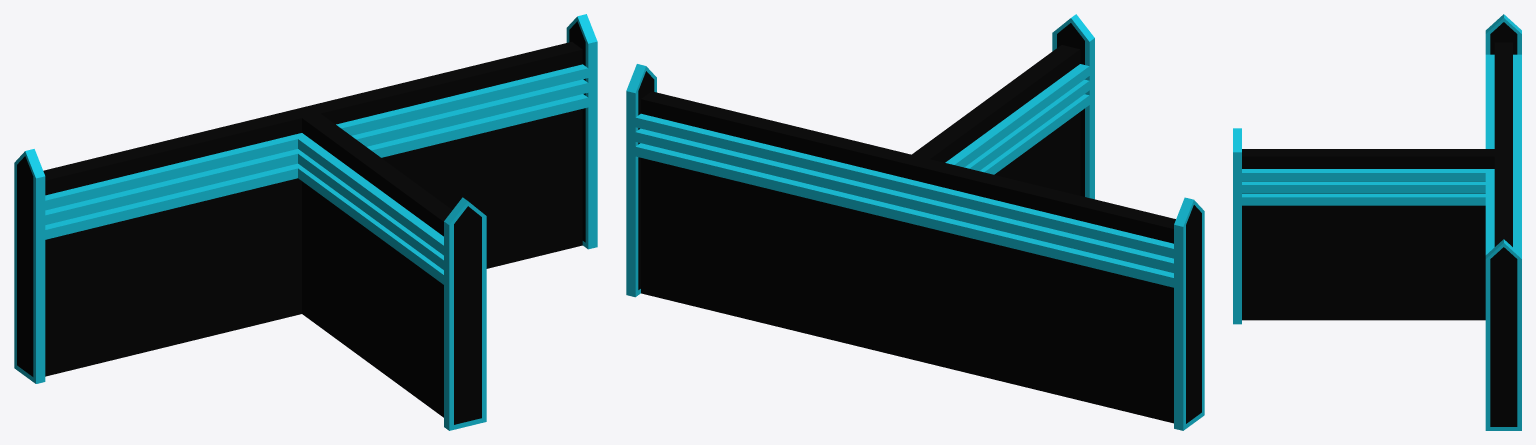
File: WallTee.glb
3 views of the same model, side by side, from view 1: azimuth 30°, elevation 25°; view 2: azimuth 150°, elevation 25°; view 3: azimuth 270°, elevation 25° (orthographic). The views are drawn at different scales.
Visible parts, largest first — view 1: WallTee, Cube.053, Cube.051, Cube.052, Divider.001, Divider.012, Cube.050, Cube.046, Cube.016, Cube.054, Cube.055, Cube.021 (+3 smaller); view 2: WallTee, Cube.053, Cube.051, Cube.052, Divider.012, Cube.050, Cube.017, Cube.047, Cube.054, Cube.055, Cube.021, Divider.001 (+2 smaller); view 3: WallTee, Divider.006, Cube.053, Cube.054, Cube.055, Cube.050, Cube.022, Cube.016, Cube.017, Divider.012.
Part boxes in pixels (<box>): WallTee: <box>43,42,582,417</box>; Cube.053: <box>45,64,588,210</box>; Cube.051: <box>45,79,588,224</box>; Cube.052: <box>45,94,588,239</box>; Divider.001: <box>454,206,481,424</box>; Divider.012: <box>17,156,33,376</box>; Cube.050: <box>293,133,443,255</box>; Cube.046: <box>33,176,45,379</box>; Cube.016: <box>585,41,597,244</box>; Cube.054: <box>298,152,443,269</box>; Cube.055: <box>298,167,443,284</box>; Cube.021: <box>444,221,453,425</box>; WallTee: <box>641,45,1175,423</box>; Cube.053: <box>635,113,1173,258</box>; Cube.051: <box>635,128,1173,272</box>; Cube.052: <box>635,143,1173,287</box>; Divider.012: <box>1186,205,1201,423</box>; Cube.050: <box>945,64,1089,167</box>; Cube.017: <box>626,91,638,292</box>; Cube.047: <box>1174,224,1185,425</box>; Cube.054: <box>964,79,1089,170</box>; Cube.055: <box>979,94,1089,174</box>; Cube.021: <box>1085,38,1094,199</box>; Divider.001: <box>1057,23,1084,196</box>; WallTee: <box>1242,42,1512,320</box>; Divider.006: <box>1490,247,1517,426</box>; Cube.053: <box>1485,54,1521,254</box>; Cube.054: <box>1242,181,1485,193</box>; Cube.055: <box>1242,193,1485,205</box>; Cube.050: <box>1242,169,1494,180</box>; Cube.022: <box>1233,152,1241,319</box>; Cube.016: <box>1485,259,1490,426</box>; Cube.017: <box>1517,259,1521,426</box>; Divider.012: <box>1490,22,1517,54</box>.
Size of the model in its own units: 12 by 4.6 by 6.4.
